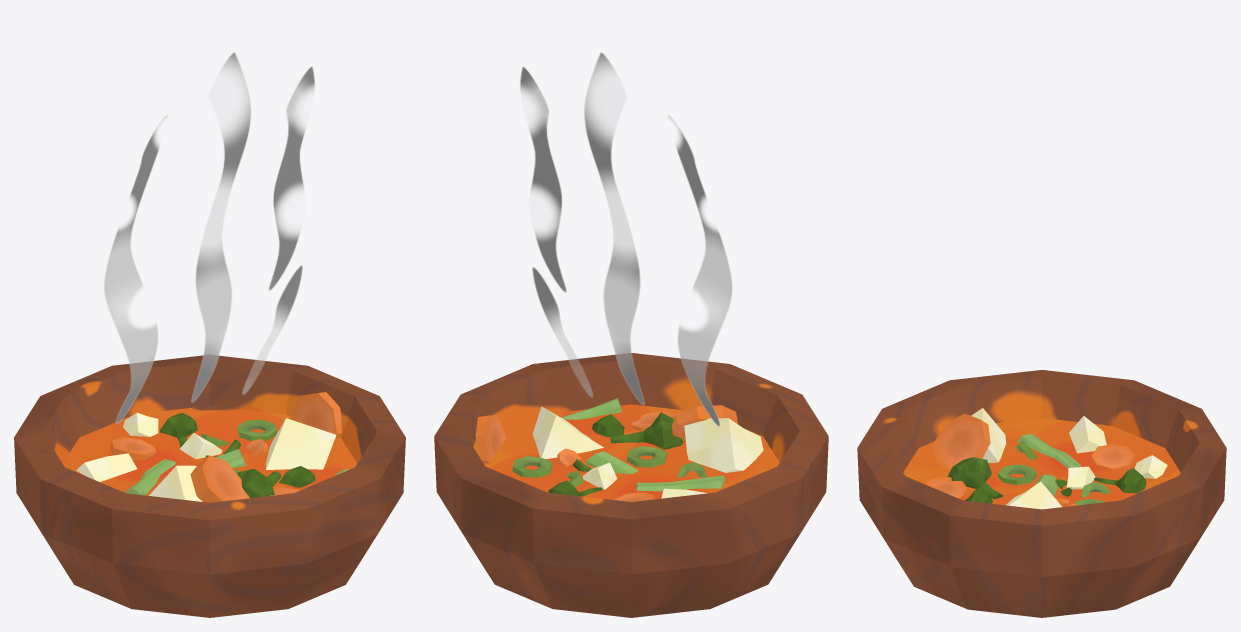
Rendered from low_poly_vegetable_soup.glb.
3 renders of one model, left to right at view 1: azimuth 30°, elevation 25°; view 2: azimuth 150°, elevation 25°; view 3: azimuth 270°, elevation 25°, orthographic. The views are drawn at different scales.
Visible parts, largest first — view 1: Object_2; view 2: Object_2; view 3: Object_2.
Boxes of the visible parts, box(x1,y1,x2,y2) form: Object_2: box(14, 52, 405, 617); Object_2: box(434, 52, 828, 617); Object_2: box(857, 370, 1226, 617).
Bounding box in the file's own units: 4.28 × 6.23 × 4.26.
Materials: 1 (1 with a texture image).
